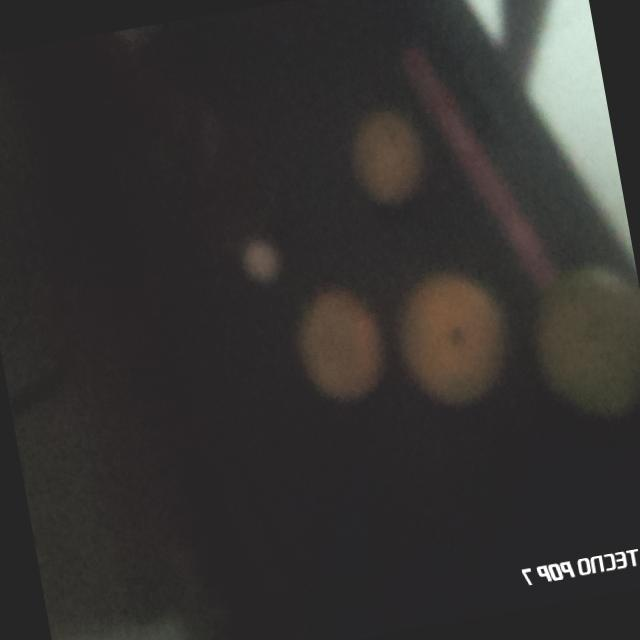agrume: (524, 258, 640, 424), (390, 260, 512, 401), (286, 286, 390, 406), (352, 105, 432, 199)
